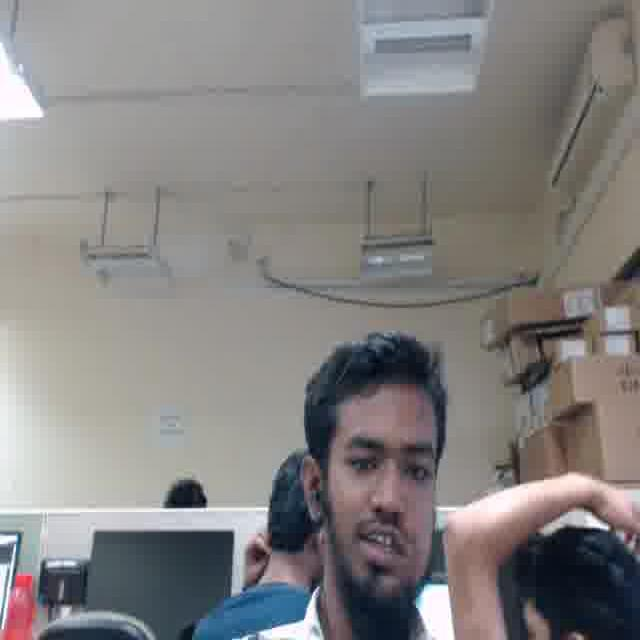Engaged: (324, 388, 442, 596)
